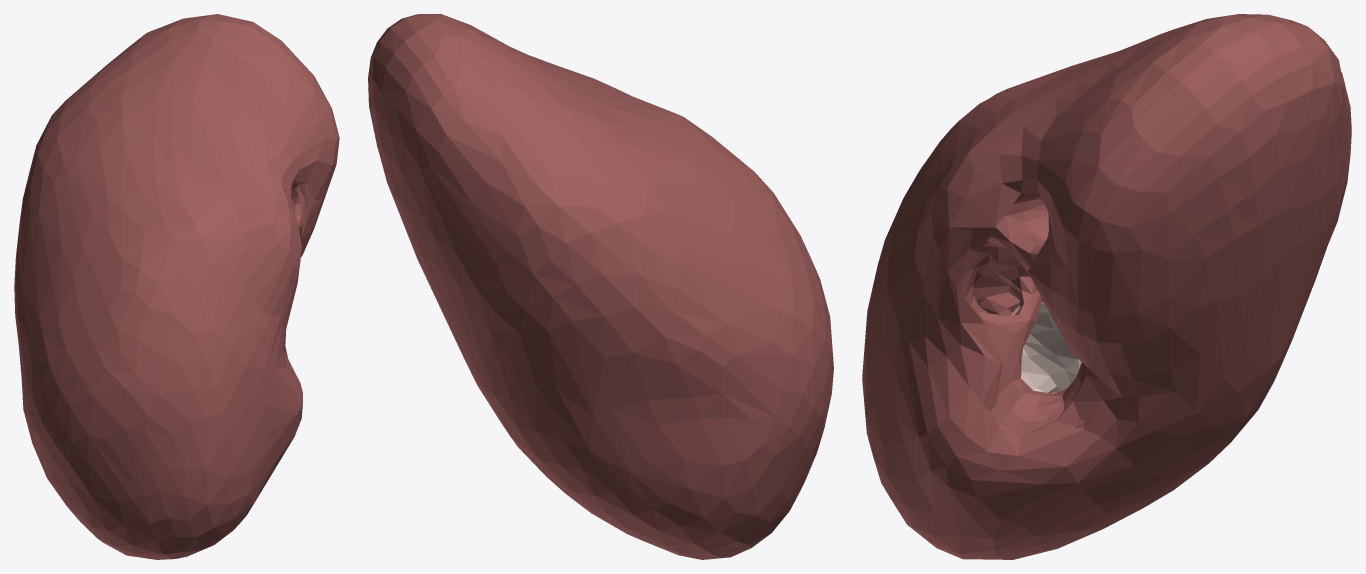
The model's file is VH_F_Kidney_R_0.2.glb.
The picture shows the model from 3 angles, left to right: view 1: azimuth 30°, elevation 25°; view 2: azimuth 150°, elevation 25°; view 3: azimuth 270°, elevation 25°; orthographic projection. The views are drawn at different scales.
Visible parts, largest first — view 1: VH_F_kidney_capsule_R; view 2: VH_F_kidney_capsule_R; view 3: VH_F_kidney_capsule_R, VH_F_hilum_of_kidney_R, VH_F_renal_column_R.
Part boxes in pixels (left/top/right/bottom): VH_F_kidney_capsule_R: left=14, top=14, right=339, bottom=559; VH_F_kidney_capsule_R: left=368, top=14, right=833, bottom=559; VH_F_kidney_capsule_R: left=862, top=14, right=1351, bottom=559; VH_F_hilum_of_kidney_R: left=956, top=192, right=1087, bottom=438; VH_F_renal_column_R: left=1011, top=301, right=1081, bottom=393.
Size of the model in its own units: 0.0733 by 0.0978 by 0.0697.
